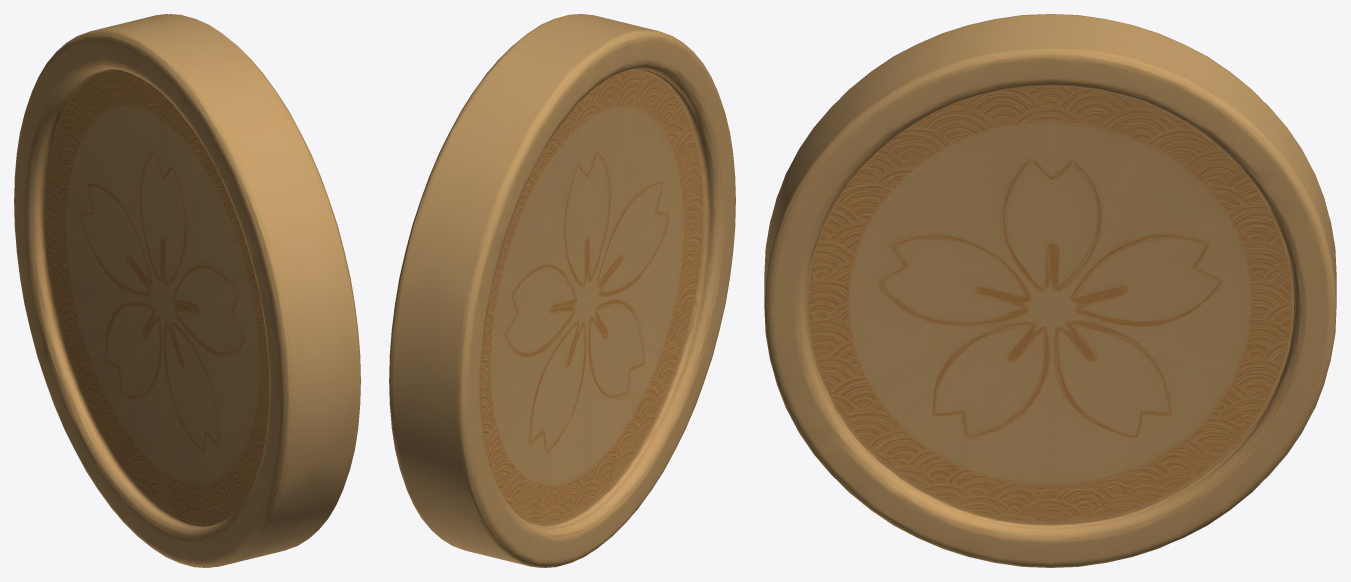
File: japanese_gold_coin.glb
The picture shows the model from 3 angles, left to right: view 1: azimuth 30°, elevation 25°; view 2: azimuth 150°, elevation 25°; view 3: azimuth 270°, elevation 25°; orthographic projection. The views are drawn at different scales.
Parts seen in each view (by area): view 1: tripo_node_688efc0f-f9a8-4eca-975d-1215beb054f1; view 2: tripo_node_688efc0f-f9a8-4eca-975d-1215beb054f1; view 3: tripo_node_688efc0f-f9a8-4eca-975d-1215beb054f1.
Part boxes in pixels (bbox=[...]): tripo_node_688efc0f-f9a8-4eca-975d-1215beb054f1: bbox=[14, 14, 360, 567]; tripo_node_688efc0f-f9a8-4eca-975d-1215beb054f1: bbox=[389, 14, 735, 567]; tripo_node_688efc0f-f9a8-4eca-975d-1215beb054f1: bbox=[764, 14, 1336, 567].
Size of the model in its own units: 0.166 by 0.998 by 0.998.
Materials: 1 (1 with a texture image).
